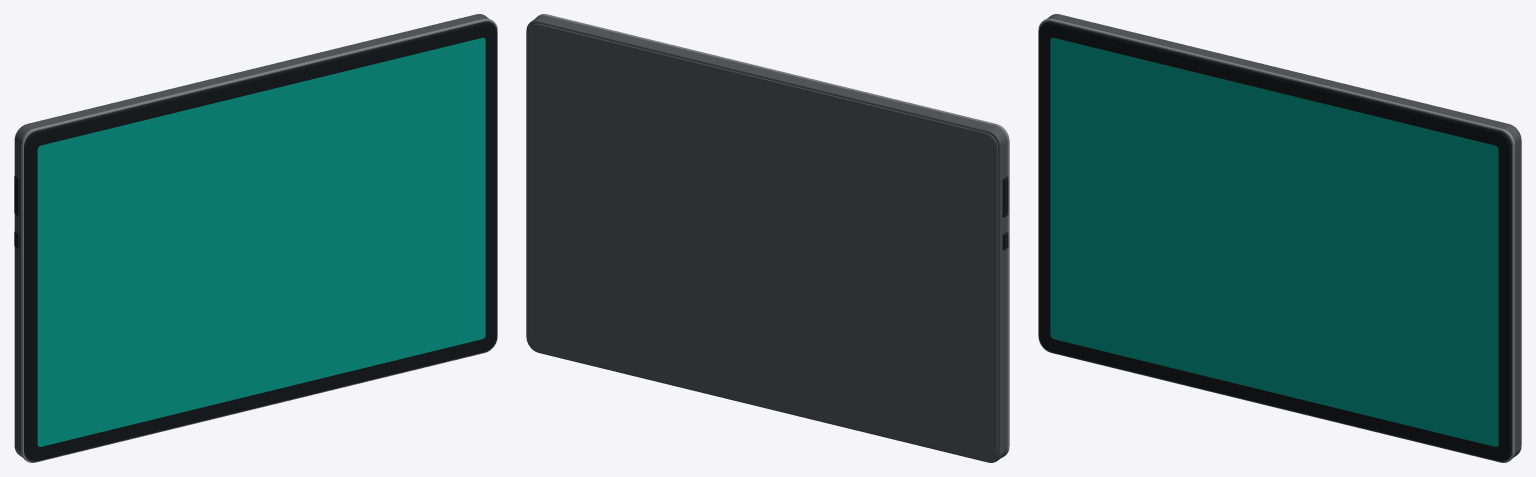
Rendered from cartise-tablet.glb.
The picture shows the model from 3 angles, left to right: view 1: azimuth 30°, elevation 25°; view 2: azimuth 150°, elevation 25°; view 3: azimuth 330°, elevation 25°; orthographic projection.
Visible parts, largest first — view 1: Screen, FrontGlass, TabletBody, GlassSeal, FrontRim; view 2: RearPanel, TabletBody, FrontRim; view 3: Screen, FrontGlass, TabletBody, FrontRim, GlassSeal.
Boxes of the visible parts, <box> form: Screen: <box>37,37,485,446</box>; FrontGlass: <box>26,23,496,460</box>; TabletBody: <box>14,14,488,457</box>; GlassSeal: <box>24,21,497,461</box>; FrontRim: <box>21,18,497,462</box>; RearPanel: <box>528,23,997,460</box>; TabletBody: <box>526,15,1007,462</box>; FrontRim: <box>536,14,1009,457</box>; Screen: <box>1050,37,1498,446</box>; FrontGlass: <box>1040,23,1509,460</box>; TabletBody: <box>1047,14,1521,457</box>; FrontRim: <box>1038,18,1514,462</box>; GlassSeal: <box>1039,21,1511,461</box>.
Size of the model in its own units: 2.49 by 1.66 by 0.0975.
